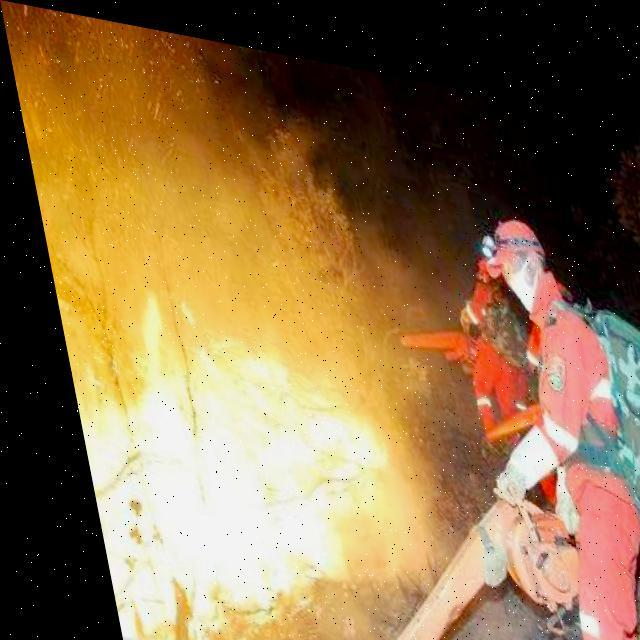Fire: (0, 0, 413, 639)
